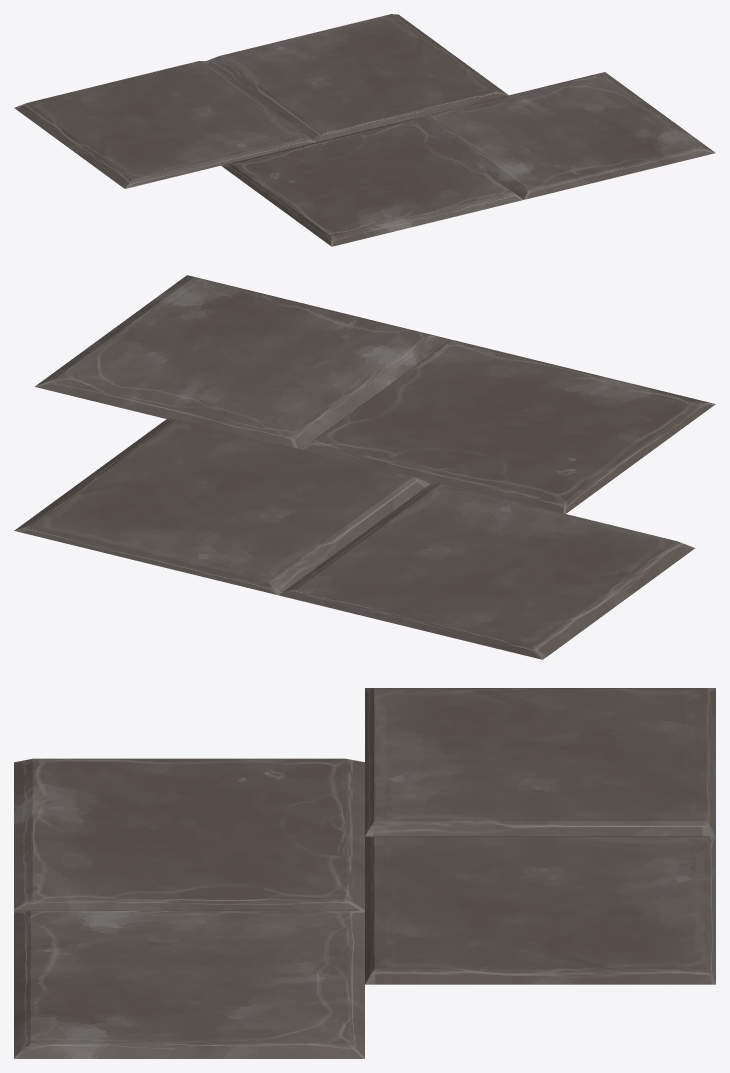
File: Stone_Ceiling_Var3.fbx
The picture shows the model from 3 angles, top to bottom: view 1: azimuth 30°, elevation 25°; view 2: azimuth 150°, elevation 25°; view 3: azimuth 270°, elevation 25°; orthographic projection. The views are drawn at different scales.
Visible parts, largest first — view 1: StoneTile_Row3_Col2__20_; view 2: StoneTile_Row3_Col2__20_; view 3: StoneTile_Row3_Col2__20_.
Part boxes in pixels (x1=…): StoneTile_Row3_Col2__20_: x1=14, y1=14, x2=715, y2=246; StoneTile_Row3_Col2__20_: x1=14, y1=275, x2=715, y2=659; StoneTile_Row3_Col2__20_: x1=14, y1=688, x2=715, y2=1058.
Bounding box in the file's own units: 2.5 × 0.0232 × 2.
